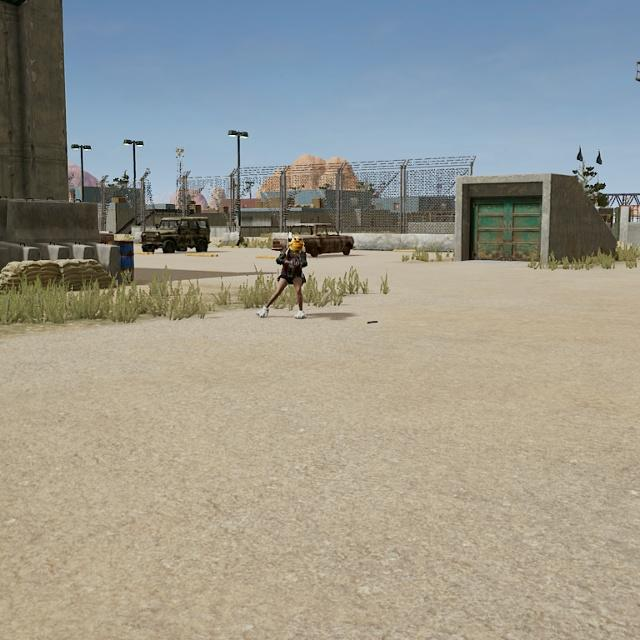head: (287, 236, 305, 255)
people: (256, 235, 309, 320)
